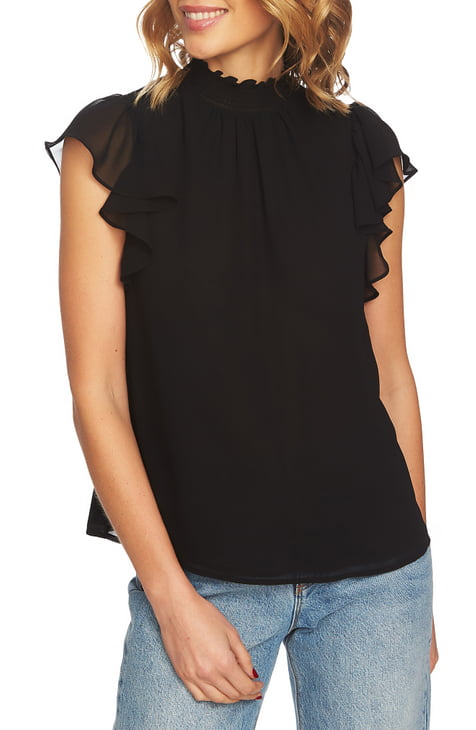C_jeans: (121, 566, 431, 730)
S_short blouse: (44, 82, 443, 569)
